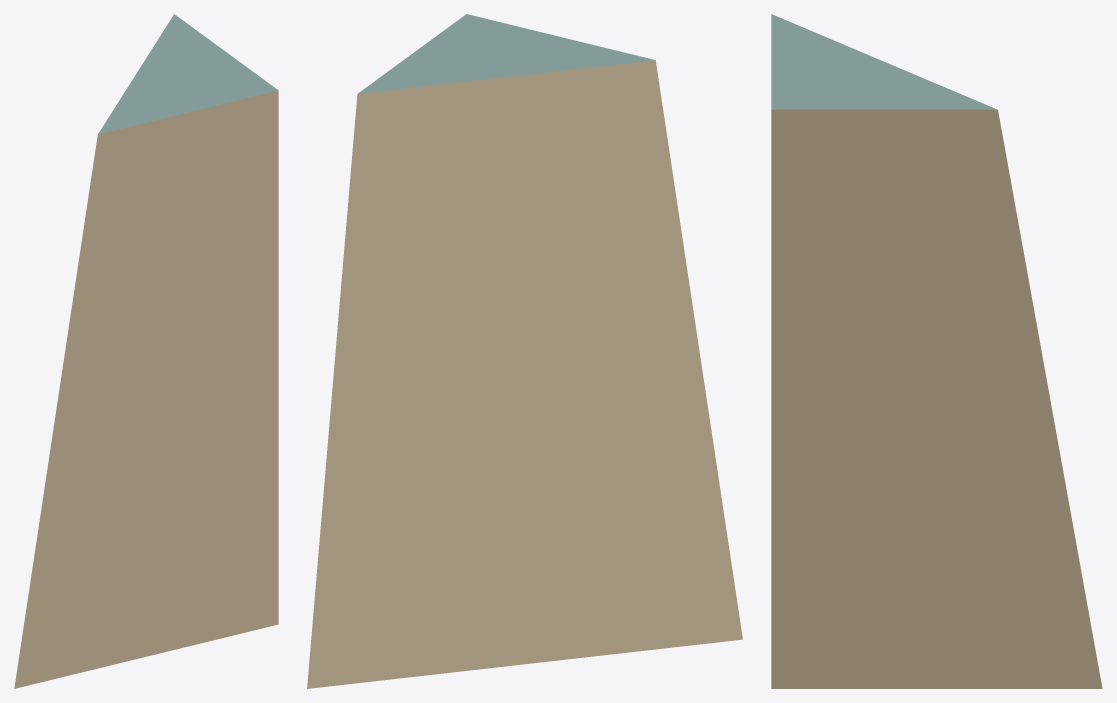
The model's file is naturePack_118.gltf.
3 renders of one model, left to right at view 1: azimuth 30°, elevation 25°; view 2: azimuth 150°, elevation 25°; view 3: azimuth 270°, elevation 25°, orthographic. The views are drawn at different scales.
Visible parts, largest first — view 1: Mesh1 Brown_Cliff_Bottom_Corner_Green_Top Model; view 2: Mesh1 Brown_Cliff_Bottom_Corner_Green_Top Model; view 3: Mesh1 Brown_Cliff_Bottom_Corner_Green_Top Model.
Boxes of the visible parts, x1,y1,x2,y2 form: Mesh1 Brown_Cliff_Bottom_Corner_Green_Top Model: [14, 14, 278, 688]; Mesh1 Brown_Cliff_Bottom_Corner_Green_Top Model: [307, 14, 742, 688]; Mesh1 Brown_Cliff_Bottom_Corner_Green_Top Model: [771, 14, 1102, 688].
Bounding box in the file's own units: 1.14 × 2.2 × 1.14.
